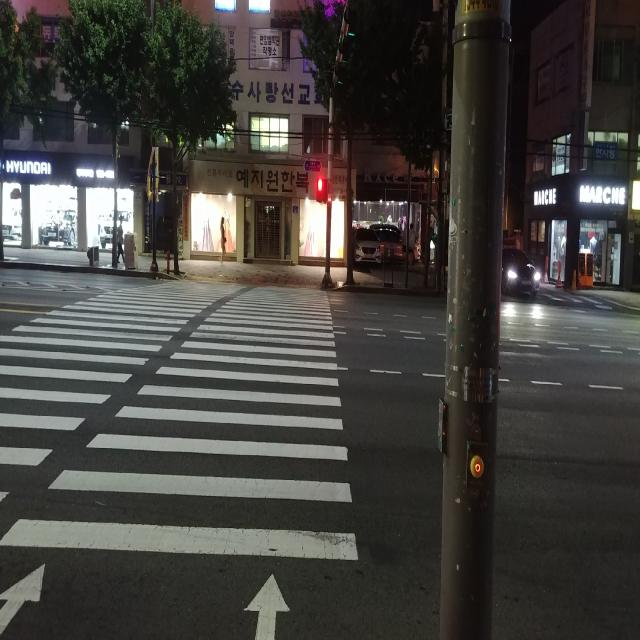빨간불: (317, 178, 322, 200)
횡단보도: (0, 279, 358, 639)
